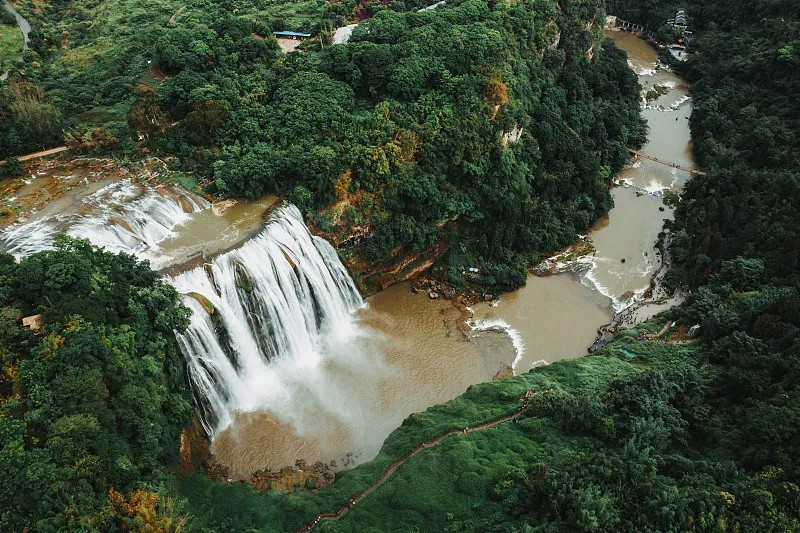Huangguoshu: (95, 200, 368, 435)
